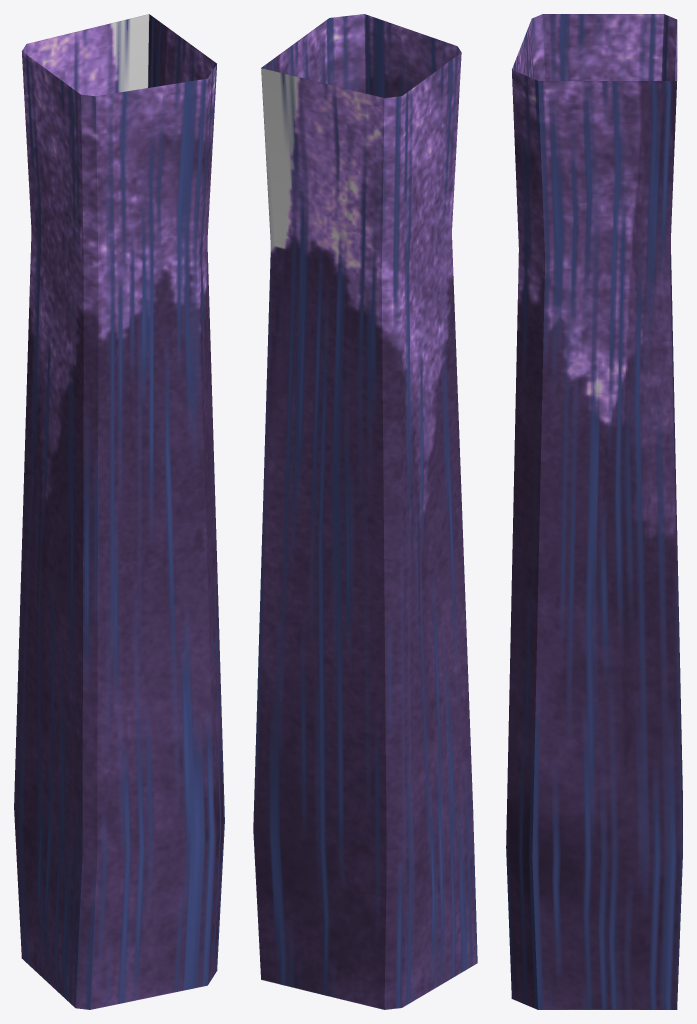
The model's file is TempleColumn_Art.glb.
The picture shows the model from 3 angles, left to right: view 1: azimuth 30°, elevation 25°; view 2: azimuth 150°, elevation 25°; view 3: azimuth 270°, elevation 25°; orthographic projection. The views are drawn at different scales.
Visible parts, largest first — view 1: TempleColumn_Art; view 2: TempleColumn_Art; view 3: TempleColumn_Art.
Boxes of the visible parts, x1,y1,x2,y2 form: TempleColumn_Art: (14, 14, 224, 1009); TempleColumn_Art: (253, 14, 477, 1009); TempleColumn_Art: (506, 14, 682, 1009).
Size of the model in its own units: 1.21 by 7 by 1.21.
1 material, 1 textured.
